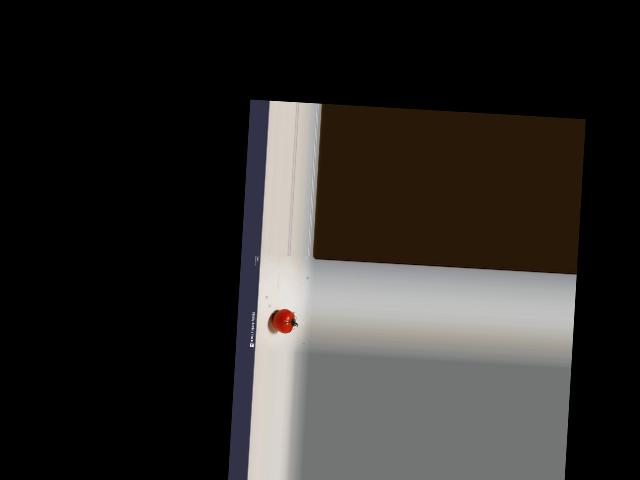tomato: (271, 308, 294, 333)
